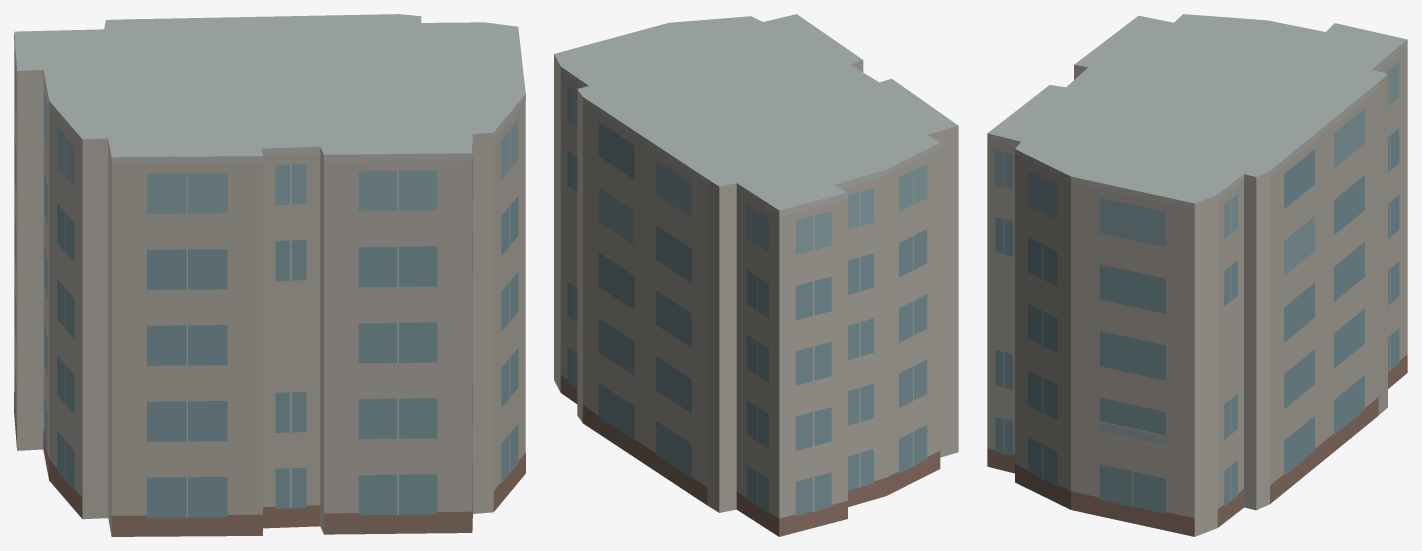
The model's file is survey-upis-32777913.glb.
The picture shows the model from 3 angles, left to right: view 1: azimuth 30°, elevation 25°; view 2: azimuth 150°, elevation 25°; view 3: azimuth 270°, elevation 25°; orthographic projection. The views are drawn at different scales.
Visible parts, largest first — view 1: survey-upis-32777913.tmp; view 2: survey-upis-32777913.tmp; view 3: survey-upis-32777913.tmp.
Part boxes in pixels (<box>): survey-upis-32777913.tmp: <box>14,14,525,536</box>; survey-upis-32777913.tmp: <box>554,14,958,536</box>; survey-upis-32777913.tmp: <box>987,14,1407,536</box>.
Bounding box in the file's own units: 16.59 × 13.6 × 15.54.
